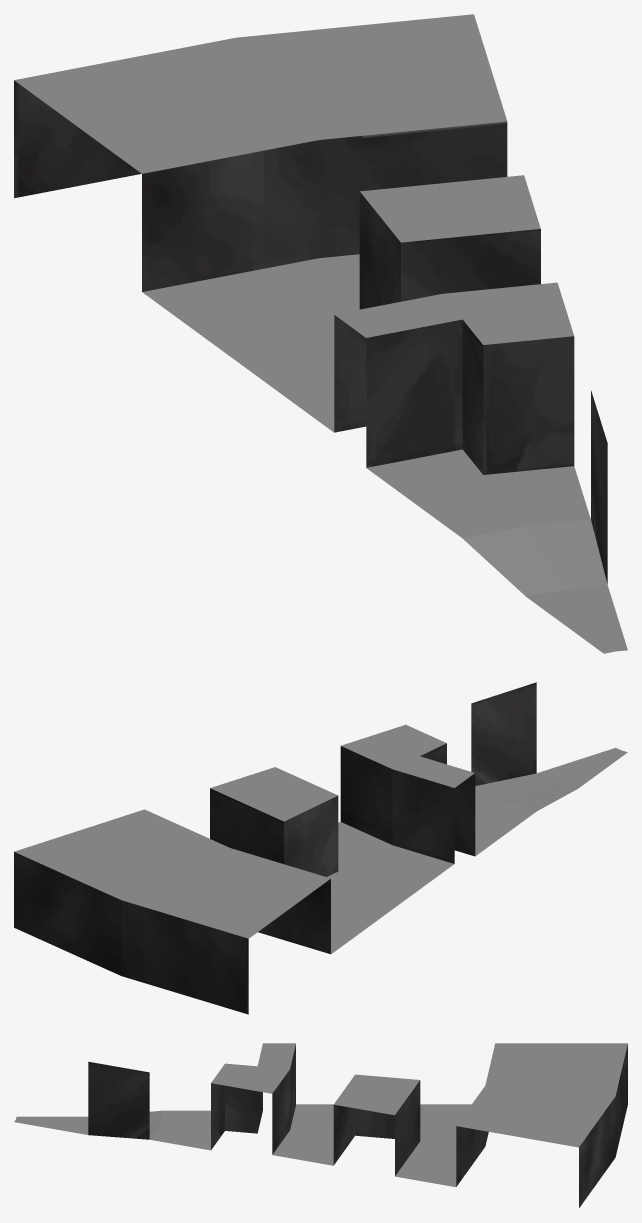
The model's file is bottom_01.obj.
The picture shows the model from 3 angles, top to bottom: view 1: azimuth 30°, elevation 25°; view 2: azimuth 150°, elevation 25°; view 3: azimuth 270°, elevation 25°; orthographic projection. The views are drawn at different scales.
Parts seen in each view (by area): view 1: Cylinder.018; view 2: Cylinder.018; view 3: Cylinder.018.
Boxes of the visible parts, x1,y1,x2,y2 form: Cylinder.018: [14, 14, 627, 653]; Cylinder.018: [14, 682, 627, 1014]; Cylinder.018: [14, 1043, 627, 1207].
Bounding box in the file's own units: 14.62 × 4.8 × 36.36.
